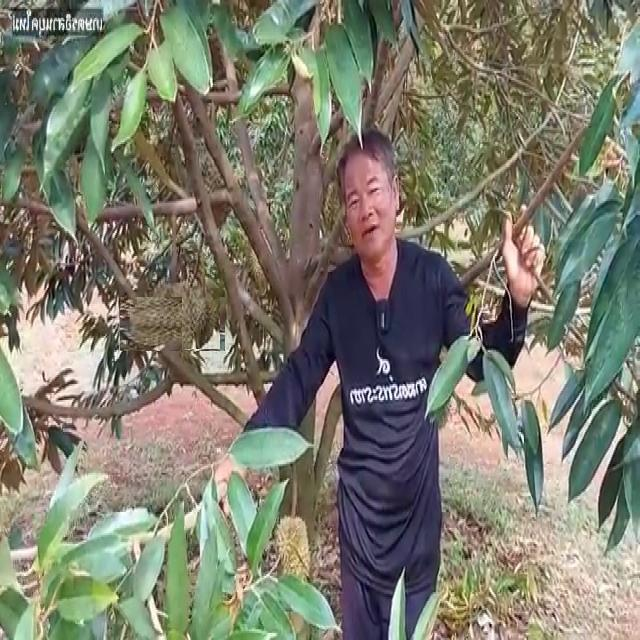durian: (133, 284, 213, 364), (182, 282, 220, 349)
